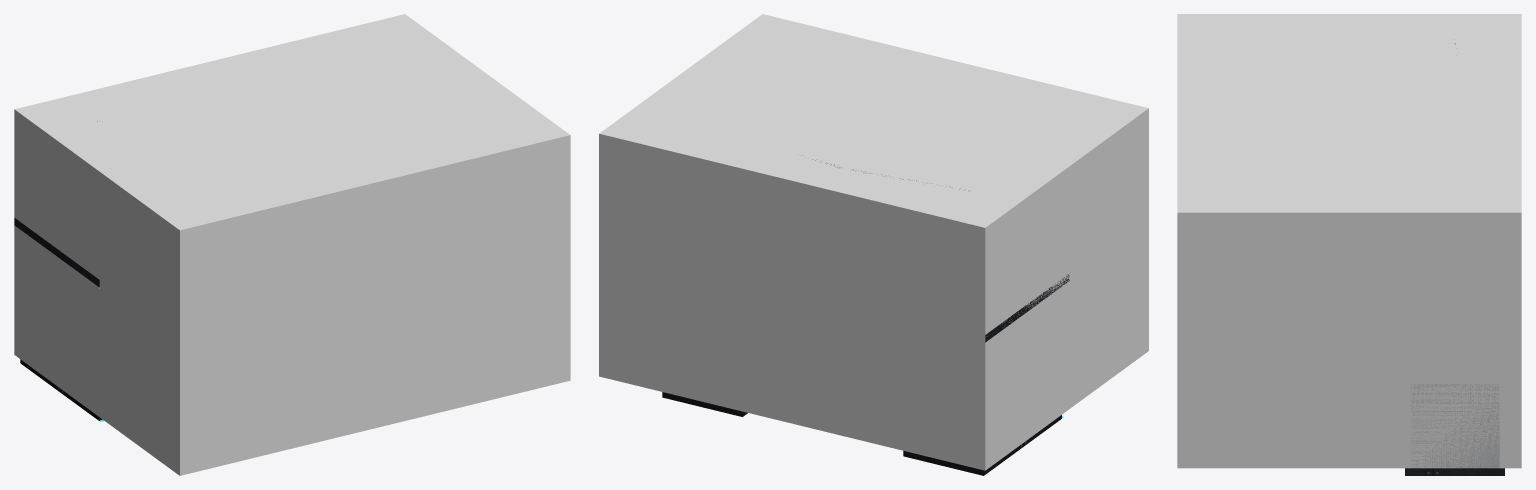
The model's file is Furn_Workstation_2Mon.gltf.
3 renders of one model, left to right at view 1: azimuth 30°, elevation 25°; view 2: azimuth 150°, elevation 25°; view 3: azimuth 270°, elevation 25°, orthographic. The views are drawn at different scales.
Parts seen in each view (by area): view 1: Furn_Workstation_2Mon_COL, Furn_Workstation_2Mon; view 2: Furn_Workstation_2Mon_COL, Furn_Workstation_2Mon; view 3: Furn_Workstation_2Mon_COL, Furn_Workstation_2Mon.
Part boxes in pixels (<box>): Furn_Workstation_2Mon_COL: <box>14,14,570,475</box>; Furn_Workstation_2Mon: <box>14,121,104,421</box>; Furn_Workstation_2Mon_COL: <box>599,14,1148,470</box>; Furn_Workstation_2Mon: <box>662,159,1069,475</box>; Furn_Workstation_2Mon_COL: <box>1177,14,1521,468</box>; Furn_Workstation_2Mon: <box>1405,43,1504,475</box>.
Size of the model in its own units: 2.11 by 1.31 by 1.55.
Materials: 10 (3 with a texture image).
